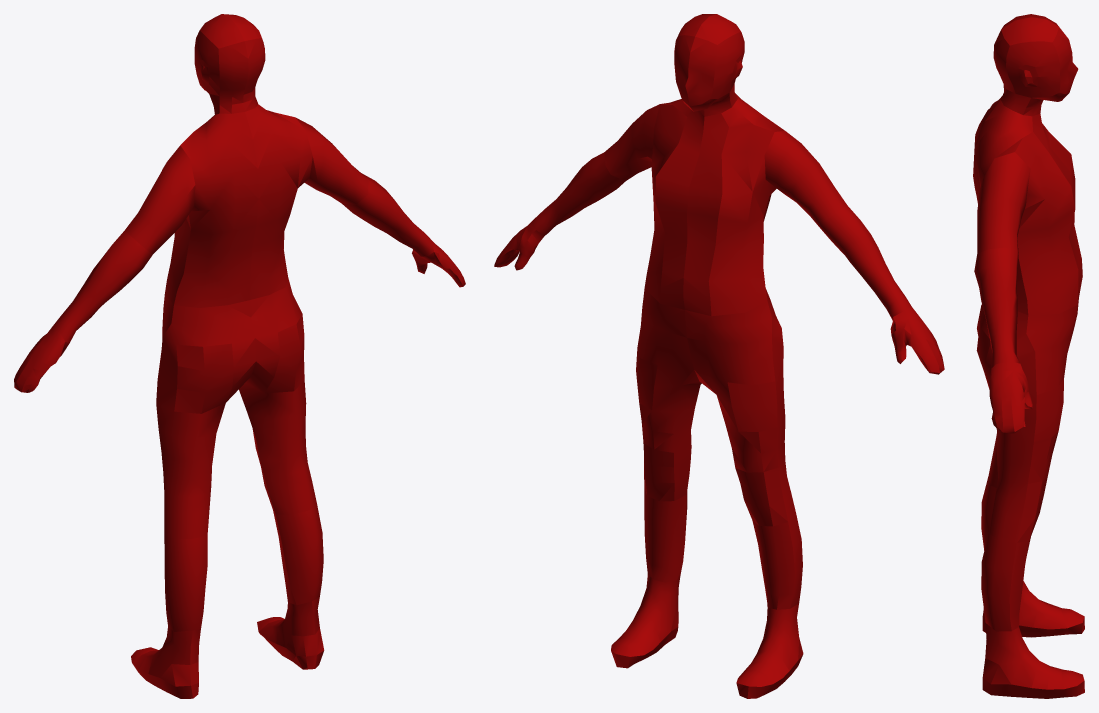
Rendered from demo_character.obj.
3 views of the same model, side by side, from view 1: azimuth 30°, elevation 25°; view 2: azimuth 150°, elevation 25°; view 3: azimuth 270°, elevation 25° (orthographic).
Visible parts, largest first — view 1: entry_5378_pkOBJ; view 2: entry_5378_pkOBJ; view 3: entry_5378_pkOBJ.
Part boxes in pixels (x1,y1,x2,y2): entry_5378_pkOBJ: (14, 14, 465, 698); entry_5378_pkOBJ: (494, 14, 944, 698); entry_5378_pkOBJ: (973, 14, 1084, 698).
Bounding box in the file's own units: 20.04 × 27.89 × 4.38.
